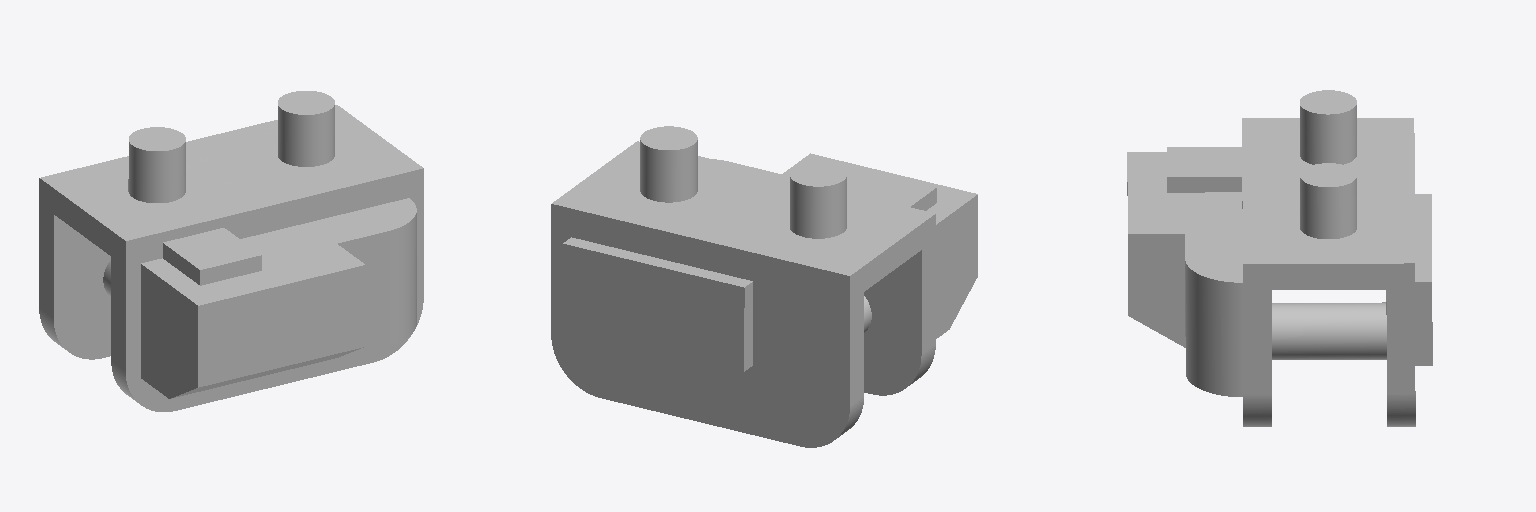
The model's file is joint6.obj.
3 renders of one model, left to right at view 1: azimuth 30°, elevation 25°; view 2: azimuth 150°, elevation 25°; view 3: azimuth 270°, elevation 25°, orthographic.
Visible parts, largest first — view 1: joint6; view 2: joint6; view 3: joint6.
Boxes of the visible parts, x1=… form: joint6: x1=39, y1=91, x2=423, y2=411; joint6: x1=551, y1=126, x2=977, y2=447; joint6: x1=1127, y1=90, x2=1432, y2=426.
Bounding box in the file's own units: 6.01 × 4.51 × 5.32.